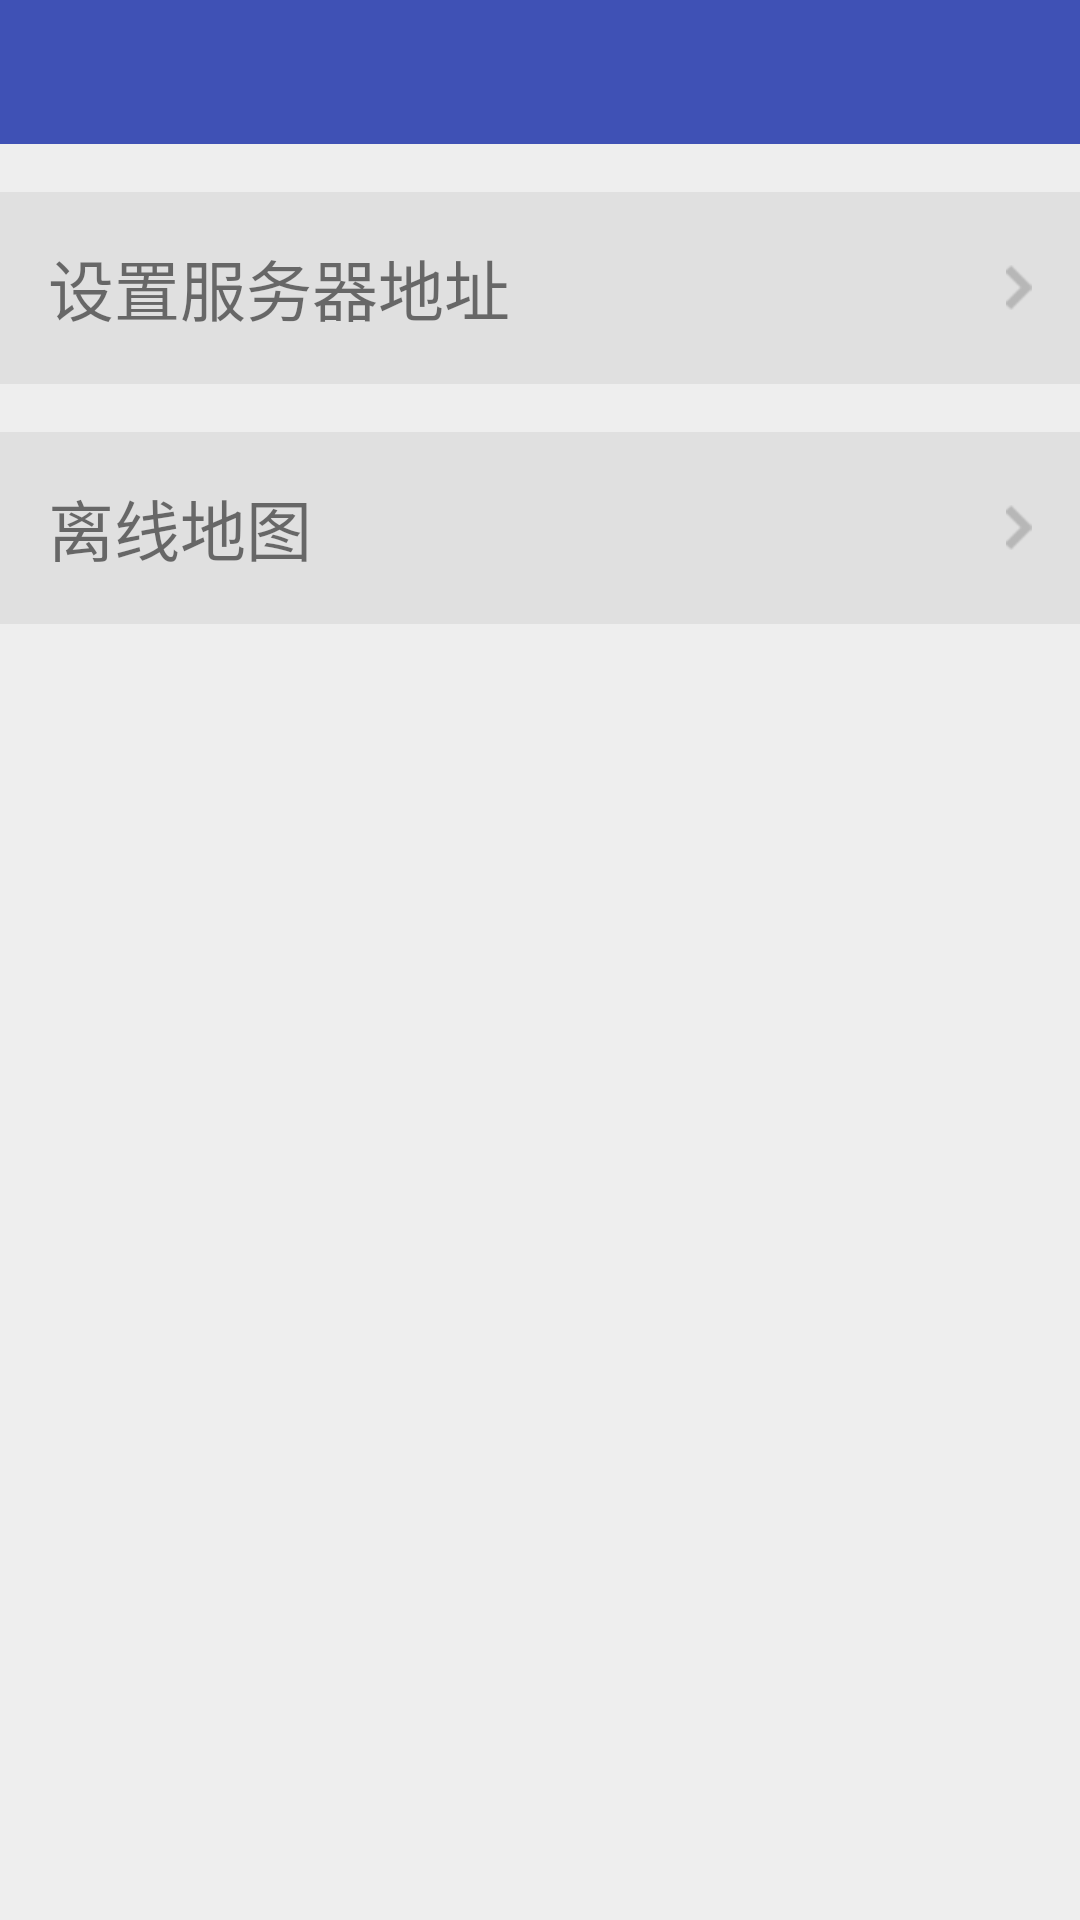

Icon click points for this 1080x1920 phone screenshot, format point (x, y):
go ahead: point (1019, 287), point (1019, 527)
